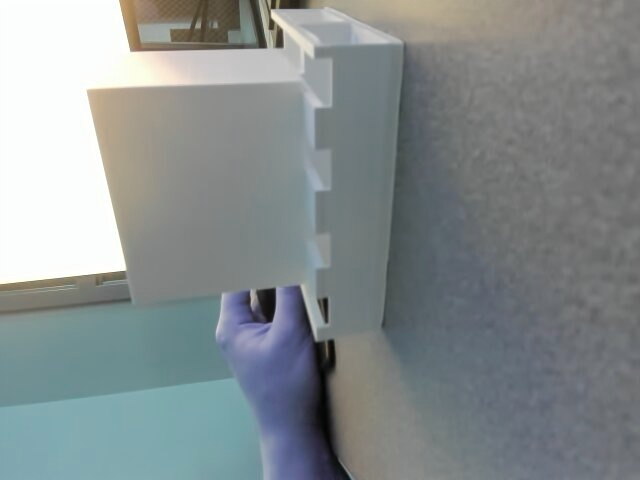white pallet: (65, 1, 456, 343)
